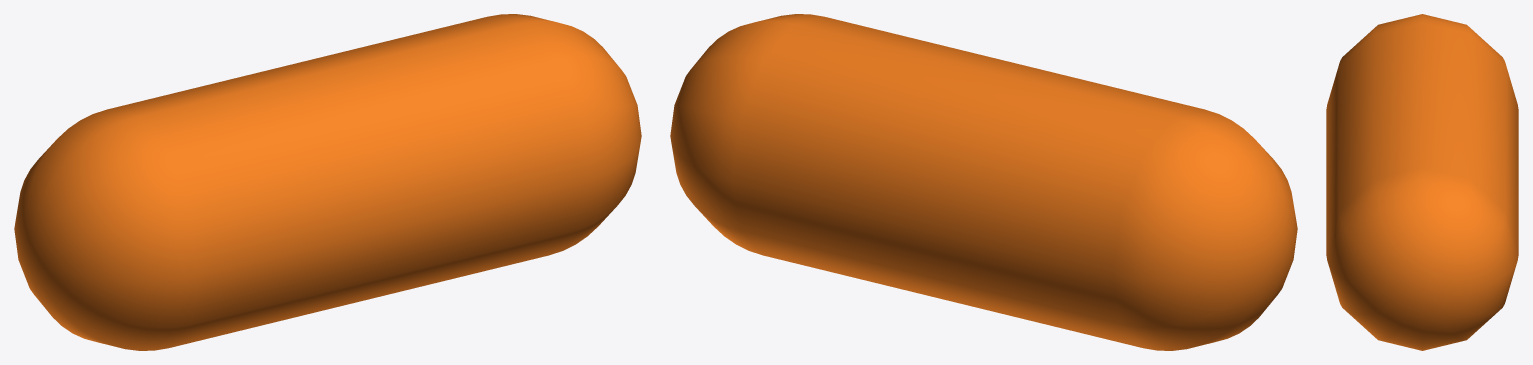
3 renders of one model, left to right at view 1: azimuth 30°, elevation 25°; view 2: azimuth 150°, elevation 25°; view 3: azimuth 270°, elevation 25°, orthographic. The views are drawn at different scales.
Parts seen in each view (by area): view 1: gripper_frame; view 2: gripper_frame; view 3: gripper_frame.
Part boxes in pixels (box(x1,y1,x2,y2)): gripper_frame: box(14, 14, 641, 350); gripper_frame: box(670, 14, 1297, 350); gripper_frame: box(1326, 14, 1518, 350).
Size of the model in its own units: 0.0182 by 0.00655 by 0.00655.
